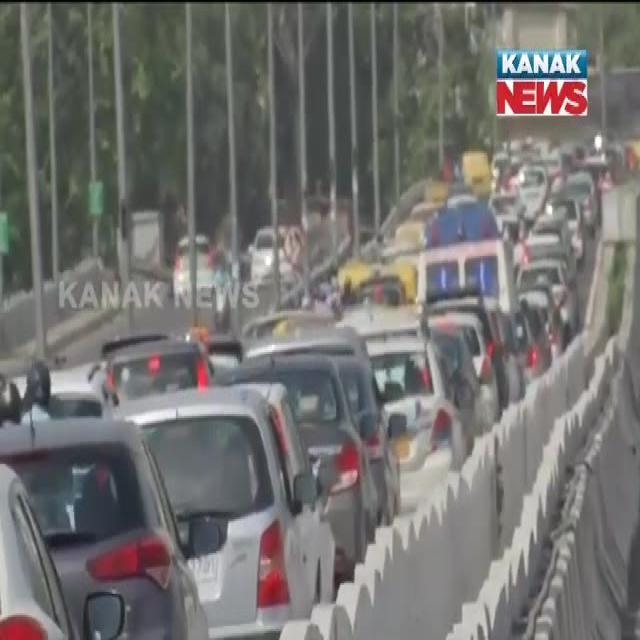ambulance: (415, 196, 506, 291)
